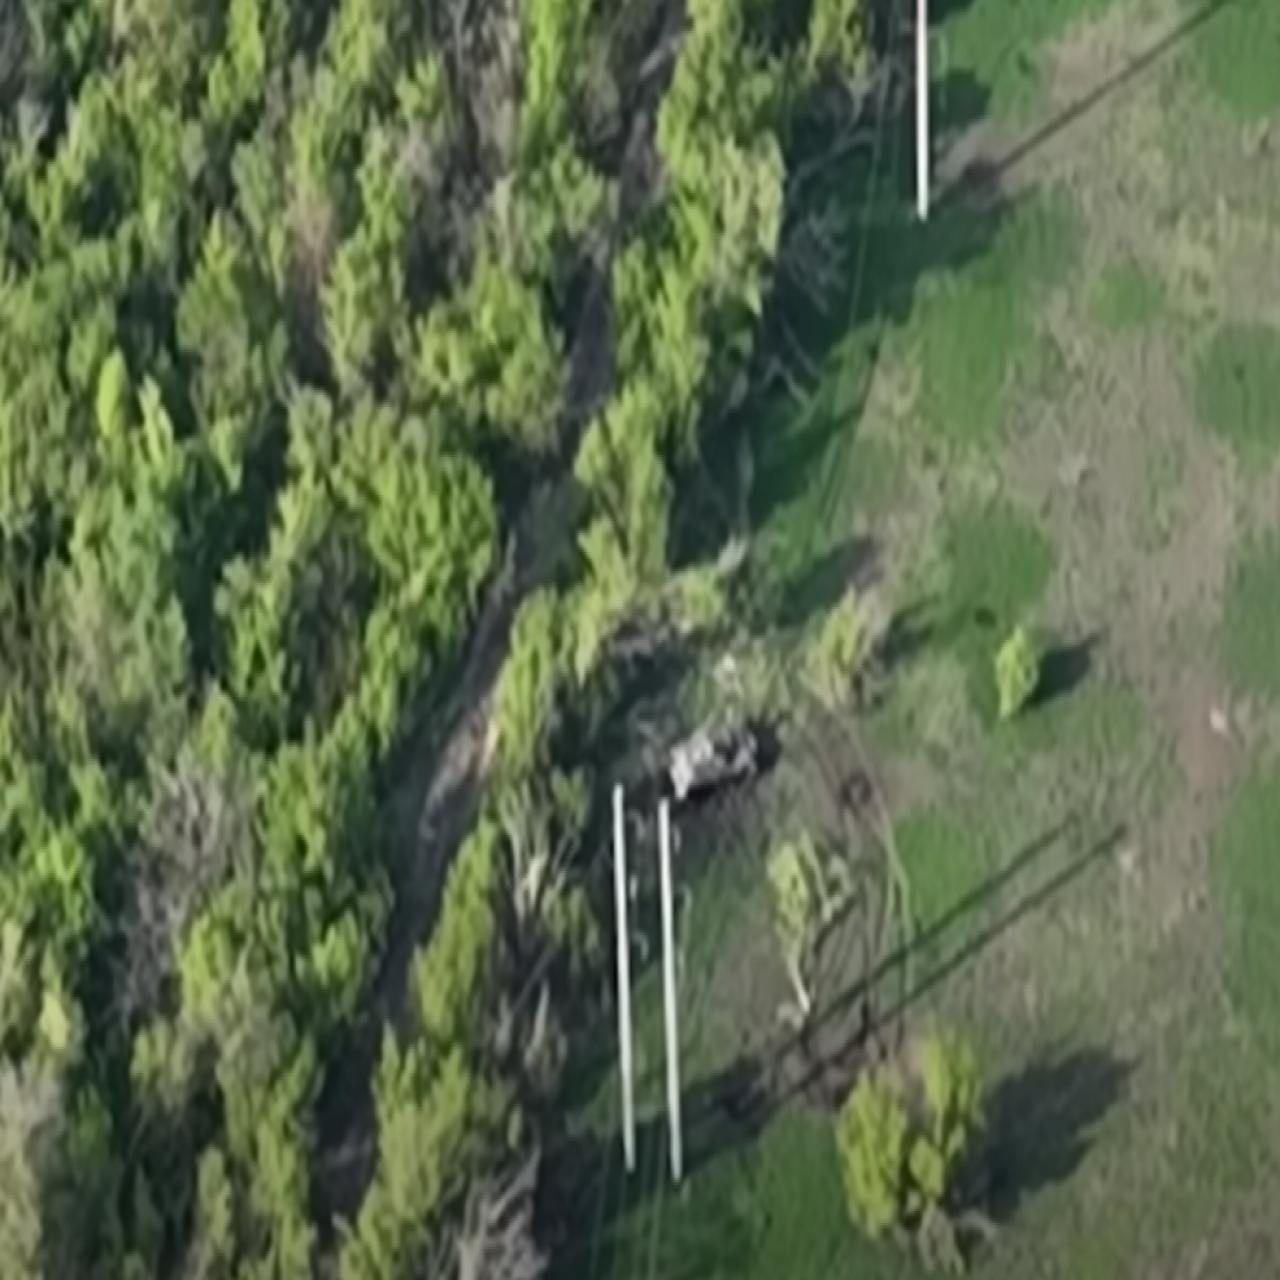MIL_Veh: (654, 707, 765, 807)
